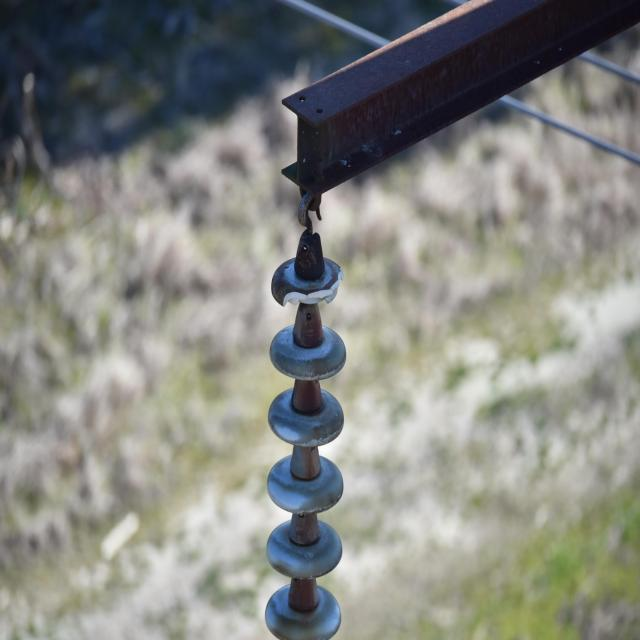broken: (279, 266, 348, 308)
insulator: (266, 254, 344, 636)
